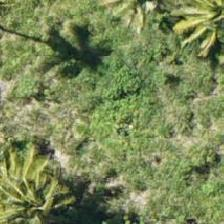coconut_tree: (0, 146, 58, 223), (173, 0, 223, 45)
